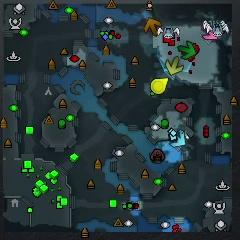p4: (151, 78, 169, 94)
x1: (202, 28, 219, 41)
x2: (165, 56, 184, 76)
x3: (169, 128, 187, 147)
x4: (178, 41, 197, 59)
x5: (143, 17, 162, 36)
